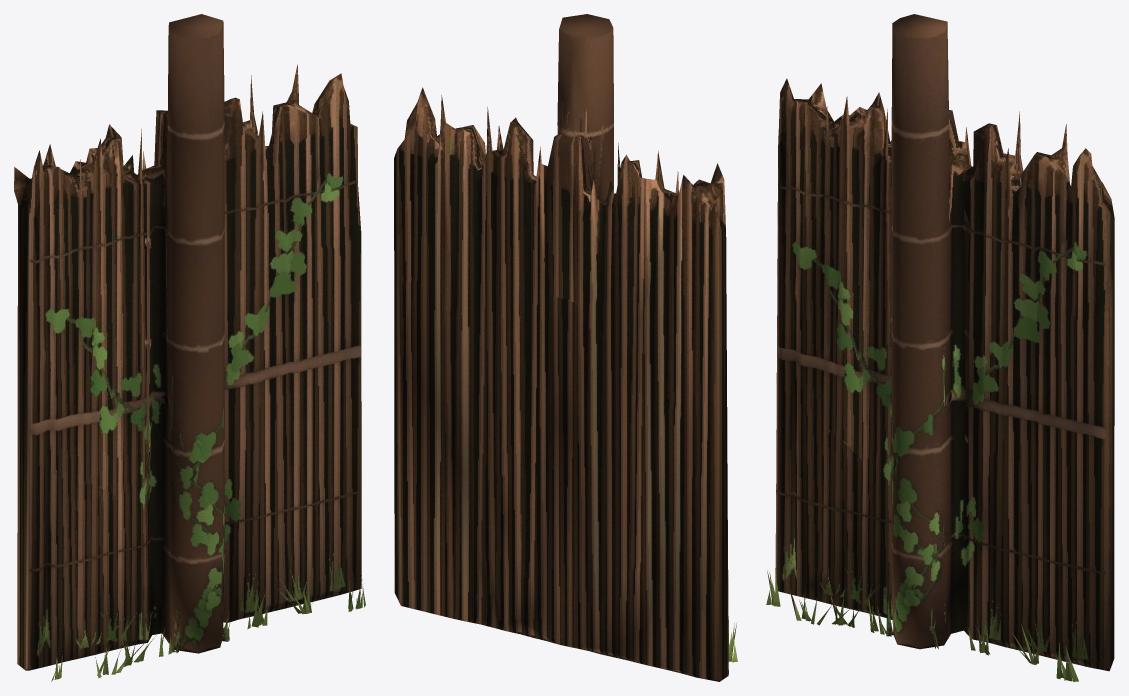
Rendered from fence_reed_ivy.glb.
The picture shows the model from 3 angles, left to right: view 1: azimuth 30°, elevation 25°; view 2: azimuth 150°, elevation 25°; view 3: azimuth 330°, elevation 25°; orthographic projection.
Visible parts, largest first — view 1: fence_reed_ivy_lod0; view 2: fence_reed_ivy_lod0; view 3: fence_reed_ivy_lod0.
Part boxes in pixels (left/top/right/bottom): fence_reed_ivy_lod0: left=14, top=14, right=365, bottom=681; fence_reed_ivy_lod0: left=394, top=14, right=737, bottom=681; fence_reed_ivy_lod0: left=766, top=14, right=1114, bottom=681.
Bounding box in the file's own units: 0.9999 × 1.74 × 0.2032.
Materials: 1 (1 with a texture image).
